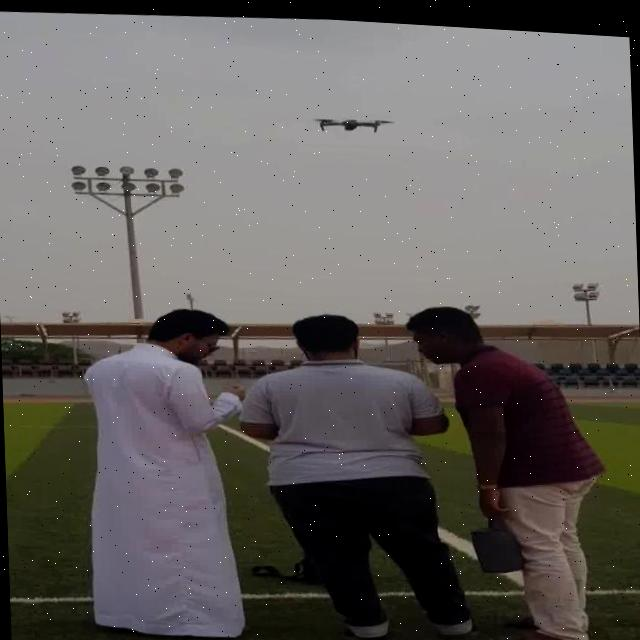drone: (304, 104, 400, 137)
